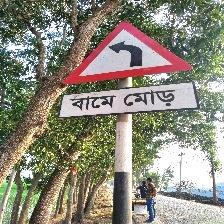Left-Turn: (59, 19, 198, 120)
